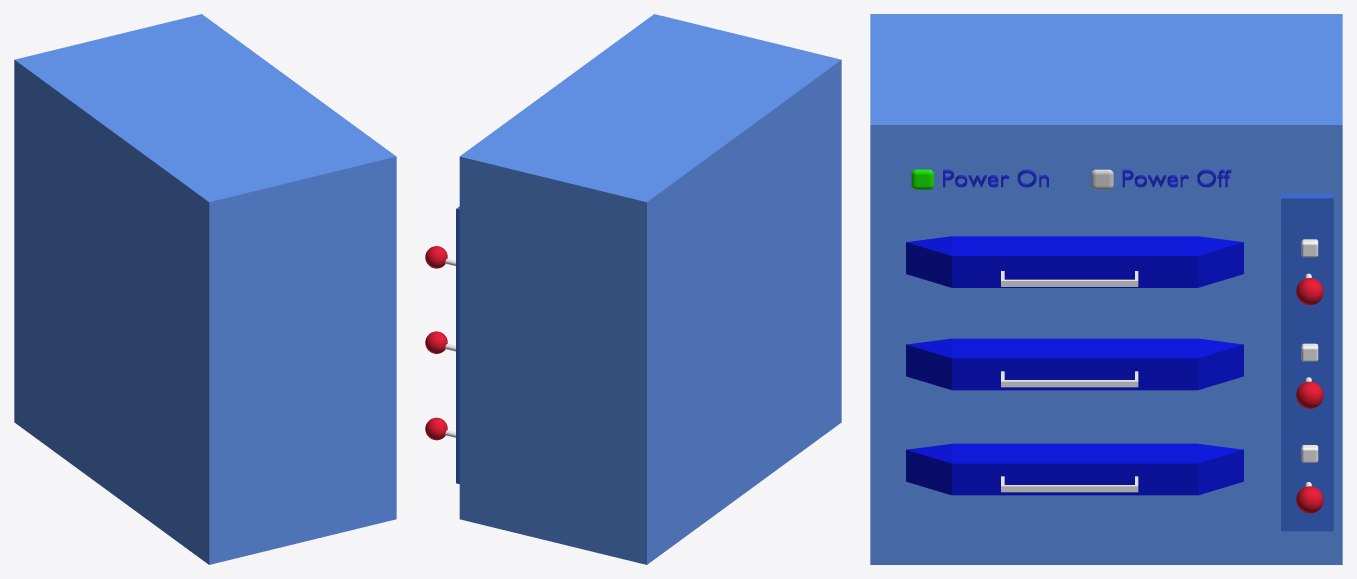
Rendered from CPU.fbx.
3 renders of one model, left to right at view 1: azimuth 30°, elevation 25°; view 2: azimuth 150°, elevation 25°; view 3: azimuth 270°, elevation 25°, orthographic. The views are drawn at different scales.
Parts seen in each view (by area): view 1: Cube; view 2: Cube, Cube.004; view 3: Cube, Cube.002, Cube.003, Cube.001, Cube.004, Cube.009, Cube.010, Cube.008, powerOn.001, powerOn, Sphere, Sphere.002 (+1 smaller).
Part boxes in pixels (box(x1,y1,x2,y2)): Cube: box(14, 14, 396, 564); Cube: box(459, 14, 841, 564); Cube.004: box(456, 206, 459, 483); Cube: box(870, 14, 1342, 564); Cube.002: box(906, 338, 1243, 390); Cube.003: box(906, 443, 1243, 495); Cube.001: box(906, 236, 1243, 287); Cube.004: box(1281, 194, 1333, 531); Cube.009: box(1001, 476, 1138, 492); Cube.010: box(1001, 371, 1138, 387); Cube.008: box(1001, 271, 1138, 286); powerOn.001: box(1122, 169, 1231, 187); powerOn: box(943, 169, 1048, 187); Sphere: box(1296, 273, 1323, 305); Sphere.002: box(1296, 482, 1323, 513).
Bounding box in the file's own units: 249 × 370 × 360.
